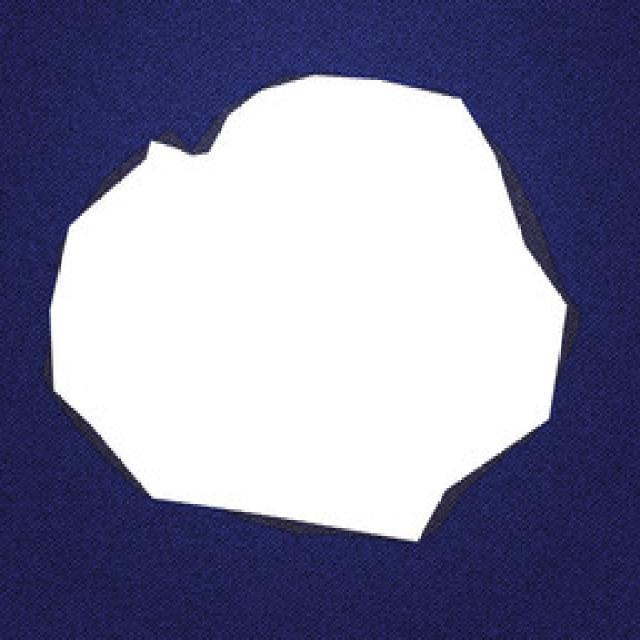Hole: (50, 74, 569, 541)
